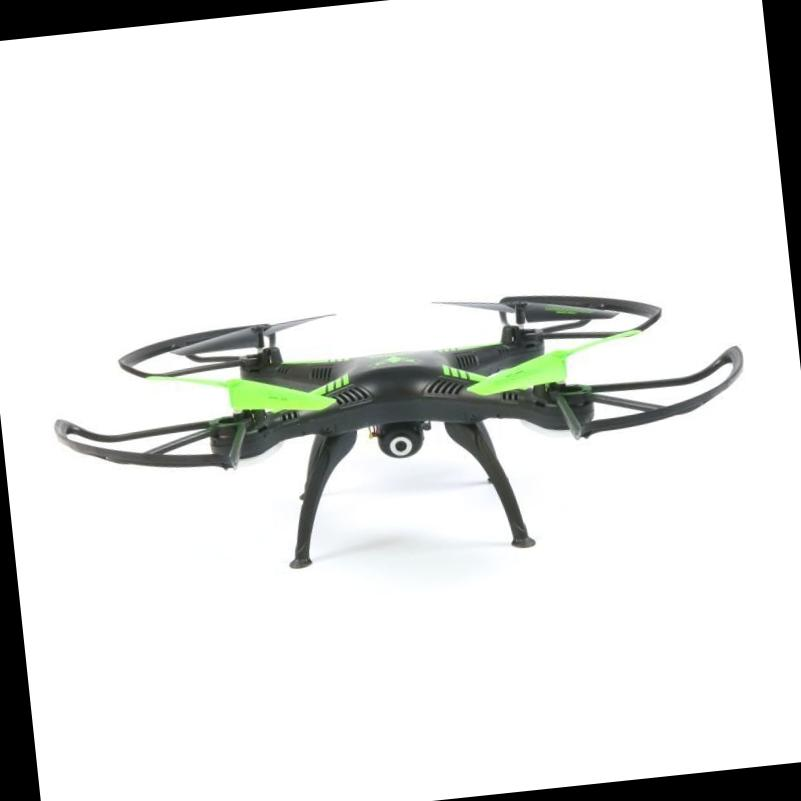drone: (1, 266, 757, 546)
